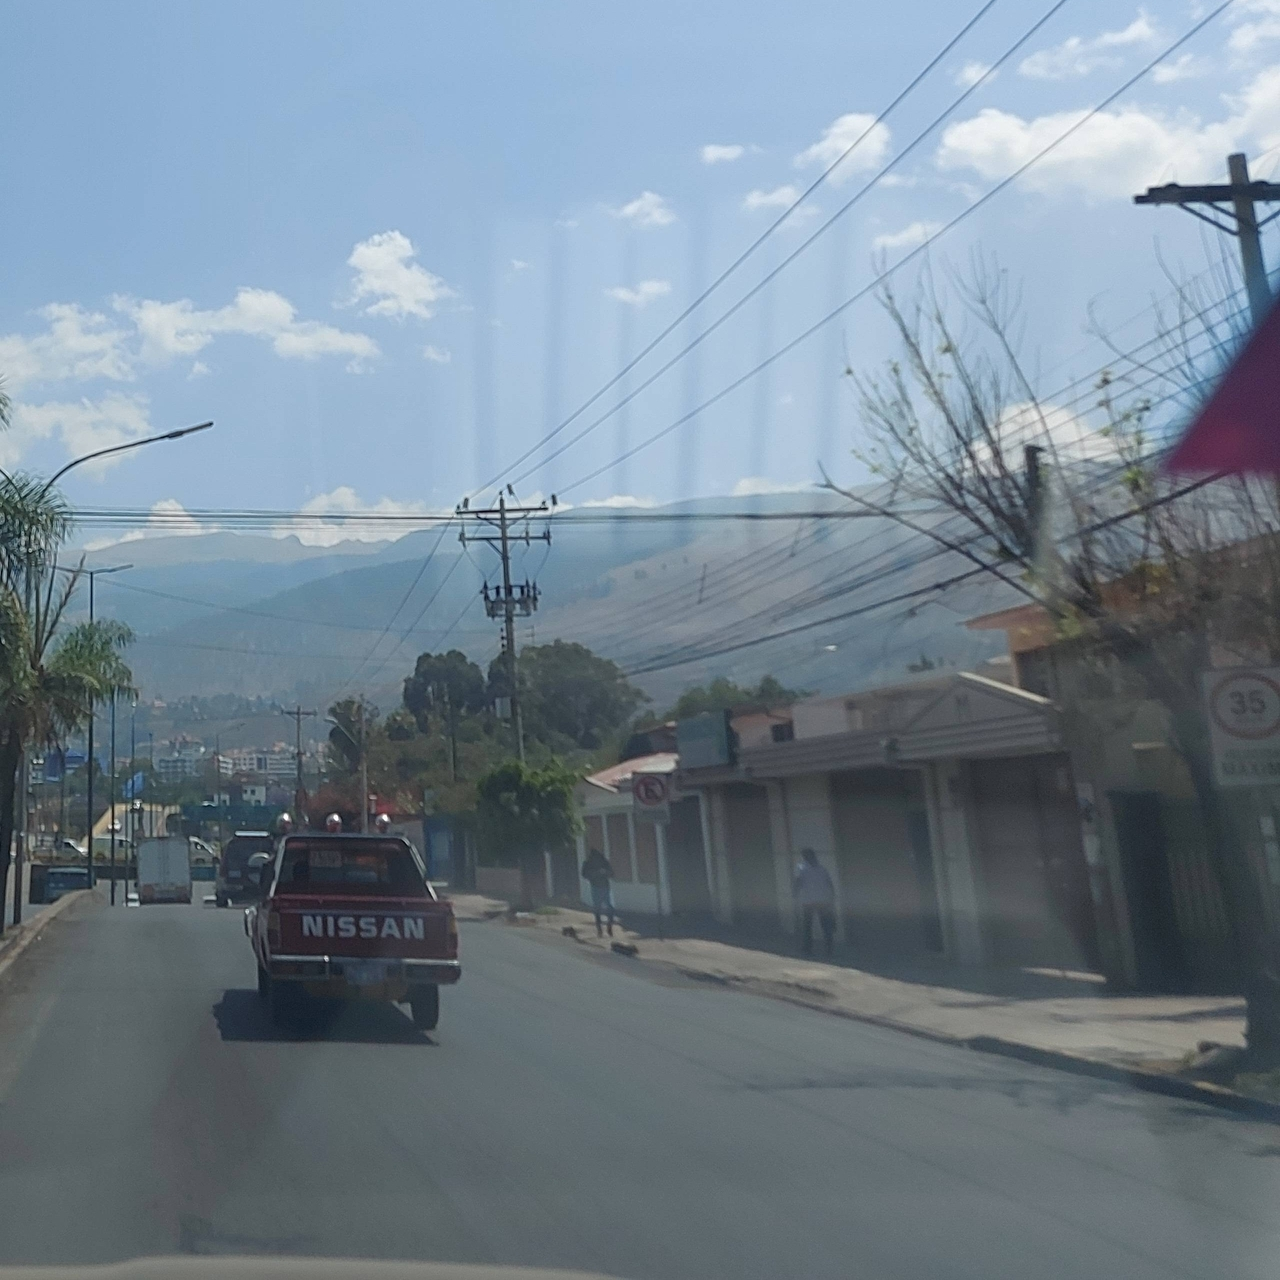limite-velocidad-35: (1201, 665, 1280, 789)
